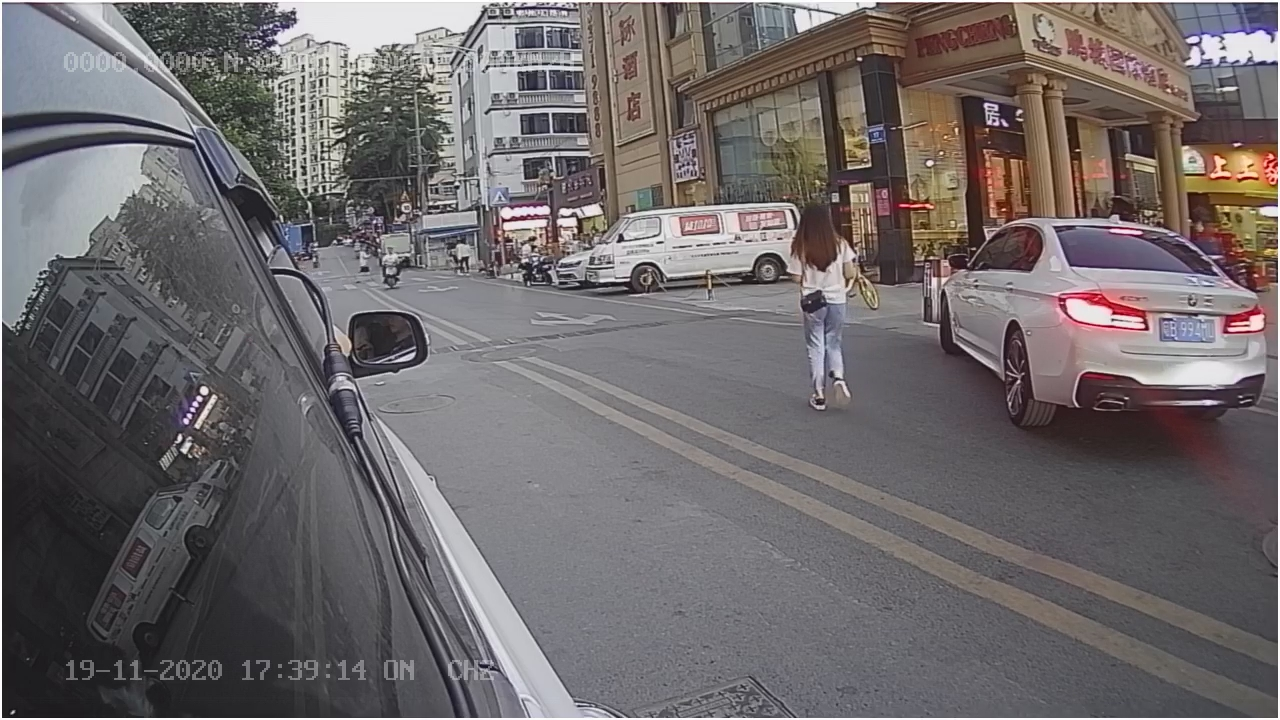person: (780, 198, 870, 420)
